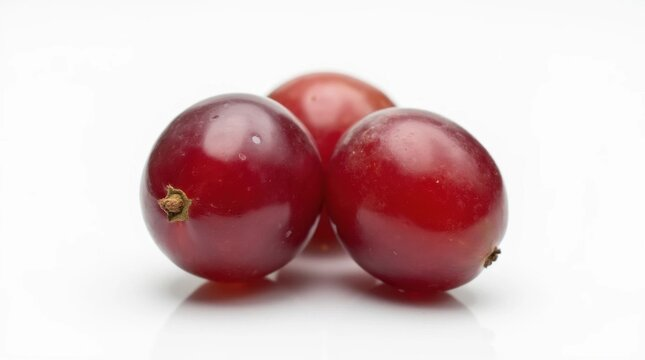grapes: (118, 69, 335, 317)
